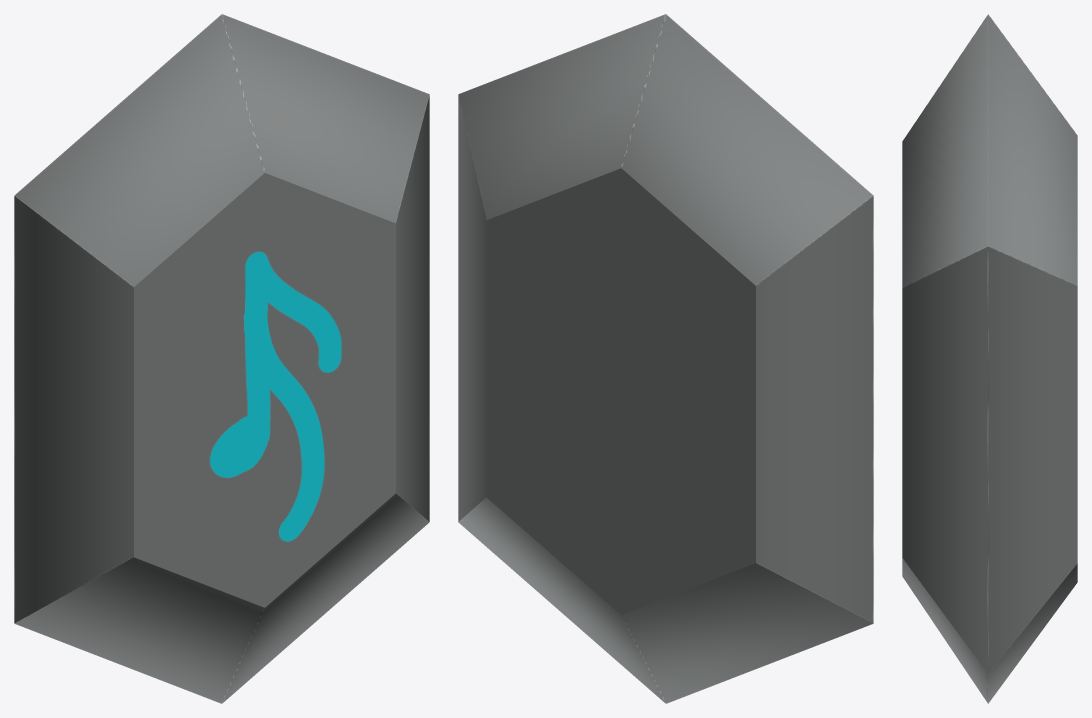
The model's file is pattern_c3.fbx.
The picture shows the model from 3 angles, left to right: view 1: azimuth 30°, elevation 25°; view 2: azimuth 150°, elevation 25°; view 3: azimuth 270°, elevation 25°; orthographic projection.
Visible parts, largest first — view 1: pattern_c3_GEO; view 2: pattern_c3_GEO; view 3: pattern_c3_GEO.
Part boxes in pixels (x1,y1,x2,y2): pattern_c3_GEO: [14, 14, 429, 703]; pattern_c3_GEO: [458, 14, 873, 703]; pattern_c3_GEO: [902, 14, 1077, 703].
Size of the model in its own units: 1.41 by 2.24 by 0.5148.
